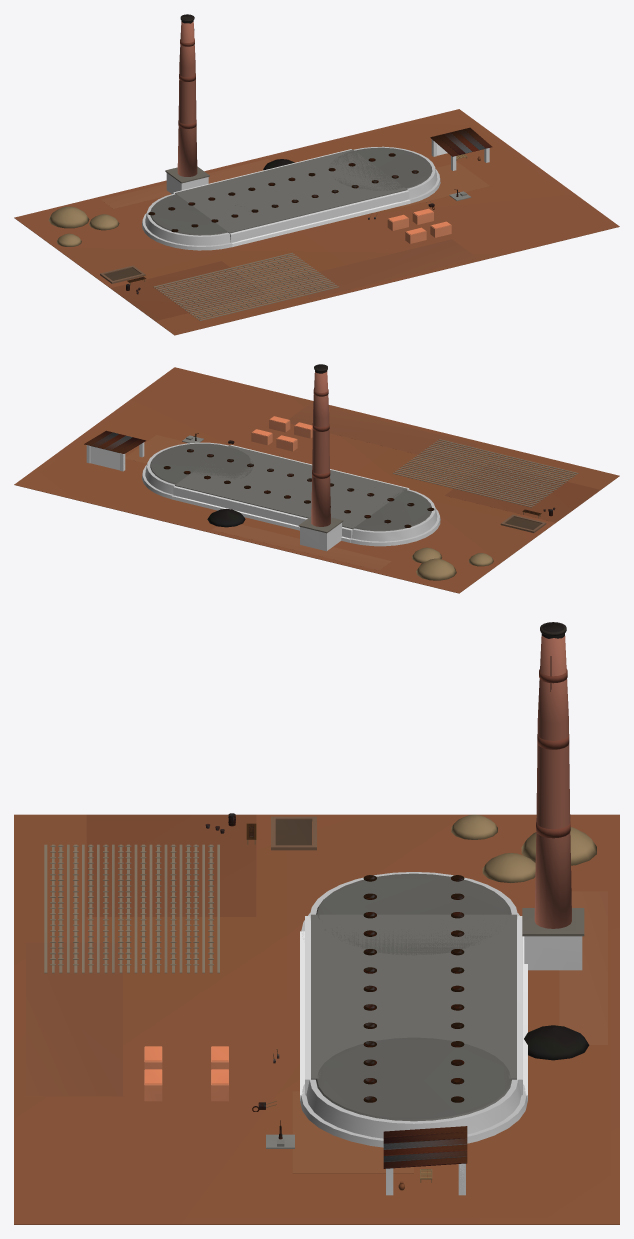
File: bhatta_v2.glb
3 renders of one model, top to bottom at view 1: azimuth 30°, elevation 25°; view 2: azimuth 150°, elevation 25°; view 3: azimuth 270°, elevation 25°, orthographic. The views are drawn at different scales.
Parts seen in each view (by area): view 1: hb_main, hb_brick, hb_tin, hb_metal; view 2: hb_main, hb_brick, hb_tin, hb_metal; view 3: hb_main, hb_brick, hb_tin, hb_metal.
Boxes of the visible parts, left/top/right/bottom form: hb_main: left=14, top=14, right=619, bottom=335; hb_brick: left=100, top=21, right=489, bottom=320; hb_tin: left=430, top=127, right=492, bottom=156; hb_metal: left=126, top=29, right=459, bottom=294; hb_main: left=14, top=364, right=619, bottom=593; hb_brick: left=86, top=371, right=578, bottom=551; hb_tin: left=84, top=430, right=145, bottom=453; hb_metal: left=163, top=433, right=555, bottom=527; hb_main: left=14, top=622, right=619, bottom=1224; hb_brick: left=44, top=636, right=582, bottom=1195; hb_tin: left=383, top=1126, right=467, bottom=1168; hb_metal: left=205, top=656, right=551, bottom=1139.
Bounding box in the file's own units: 80 × 30.15 × 50.
